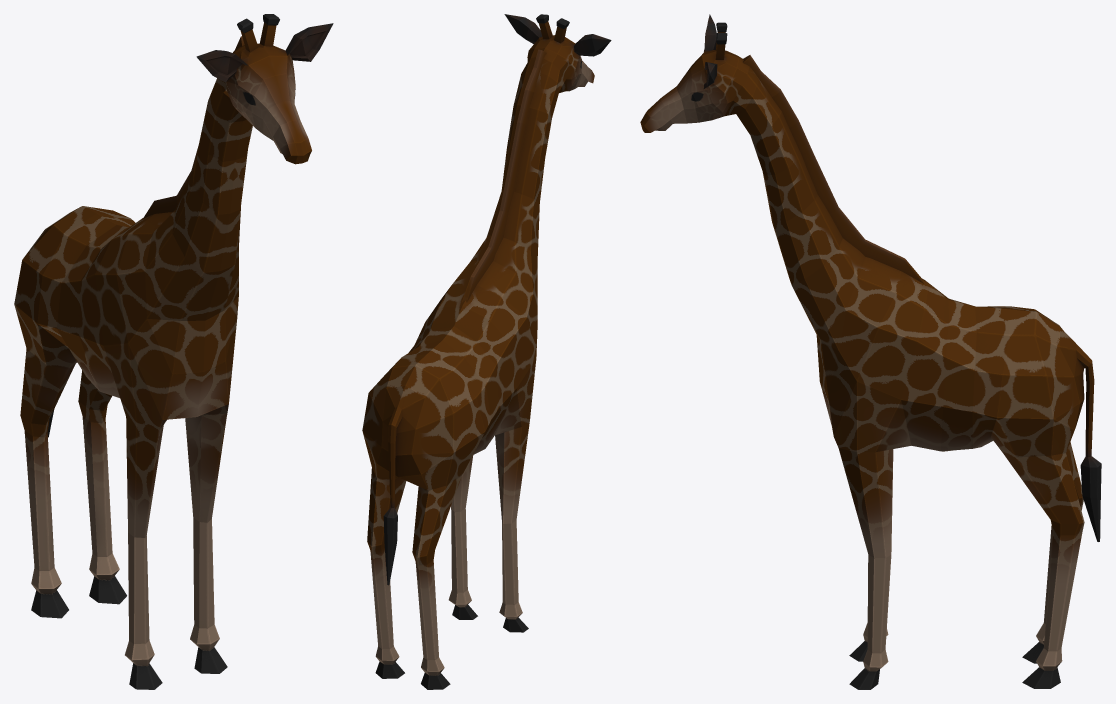
File: giraffe.glb
The picture shows the model from 3 angles, left to right: view 1: azimuth 30°, elevation 25°; view 2: azimuth 150°, elevation 25°; view 3: azimuth 270°, elevation 25°; orthographic projection. The views are drawn at different scales.
Visible parts, largest first — view 1: node-0; view 2: node-0; view 3: node-0.
Boxes of the visible parts, x1,y1,x2,y2 form: node-0: (14, 14, 333, 689); node-0: (362, 14, 611, 689); node-0: (640, 14, 1101, 689).
Size of the model in its own units: 4.09 by 20.35 by 13.27.
1 material, 1 textured.
